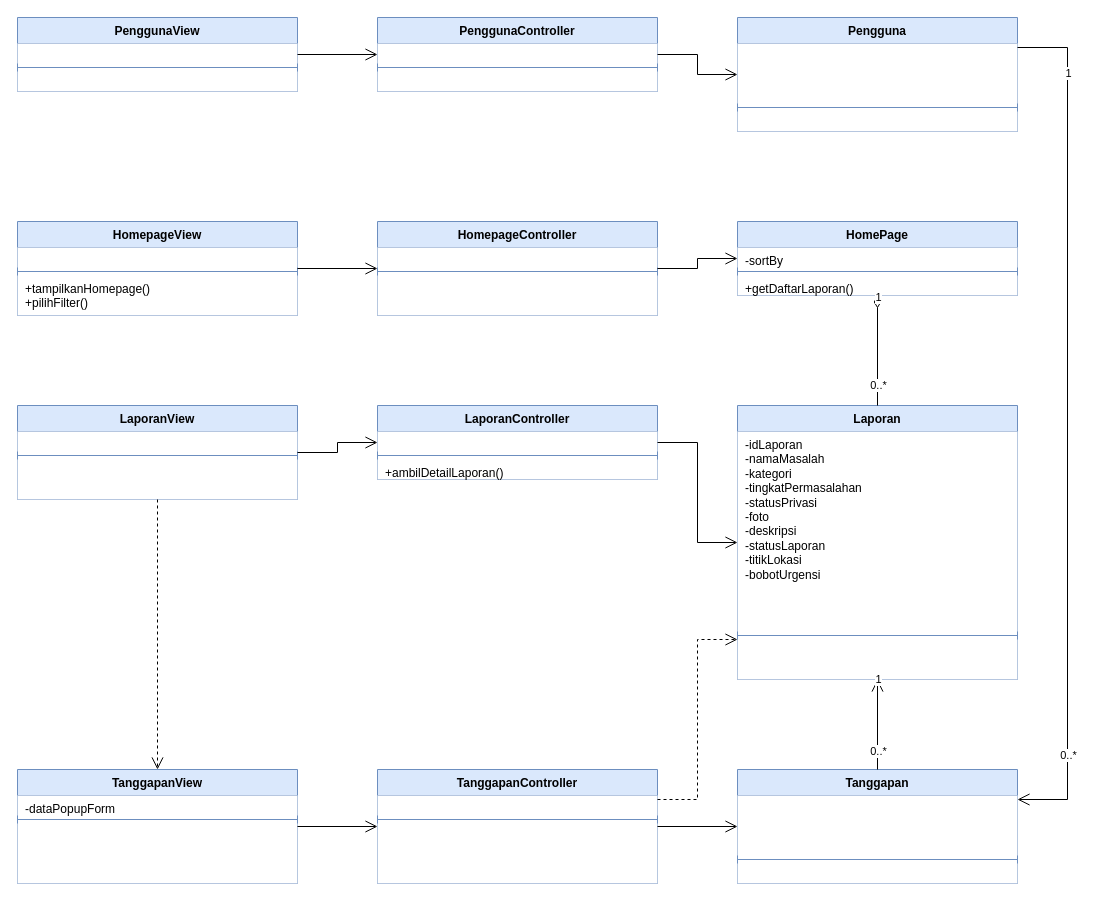
Image size: 1097x904. Some labels were removed from this diagram. Each missing label, with the centre of its shape:
"+getDetailLaporan() +perbaruiStatus()" goes at point (877, 659).
"+getRole()" goes at point (877, 121).
"+loadHomepage() +filterLaporan()" goes at point (517, 295).
"+simpanTanggapan()" goes at point (877, 873).
"+tampilkanDetailLaporan(detailLaporan) +tampilkanTanggapanTeratas()" goes at point (157, 479).
"+tampilkanPopup() +submitPopupForm() +tampilkanKonfirmasi()" goes at point (157, 853).
"+validasiTanggapan() +simpanTanggapan() +simpanStatus()" goes at point (517, 853).
"-idPengguna -nama -role" goes at point (877, 73).
"-statusTanggapan -waktuTanggapan -deskripsiTanggapan" goes at point (877, 825).
